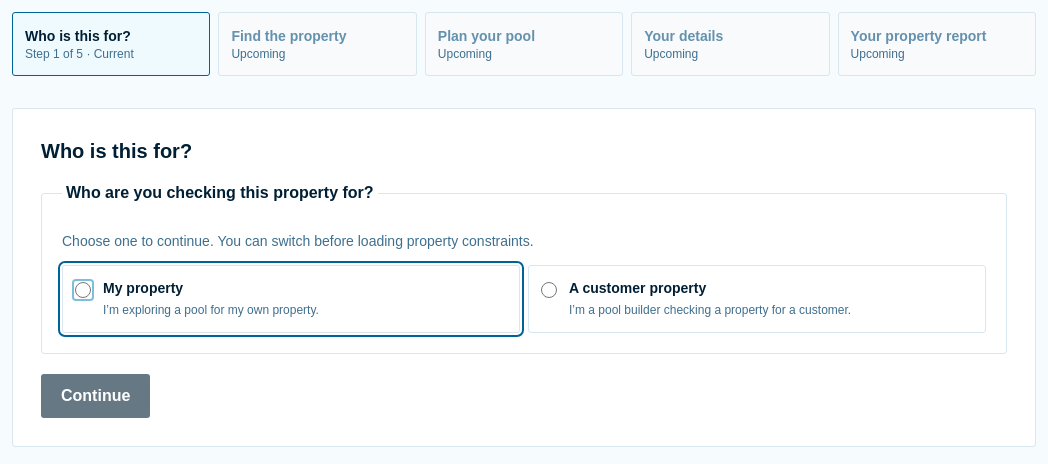
Test: Site answers in the property journey › requires an audience choice before address search and exposes one gated journey
Check: the number of navigation bars is 1, box [12, 12, 1036, 76]
Check: the radio button labelled "My property" is not checked, box [75, 282, 91, 298]
Step 1. Type keys " "
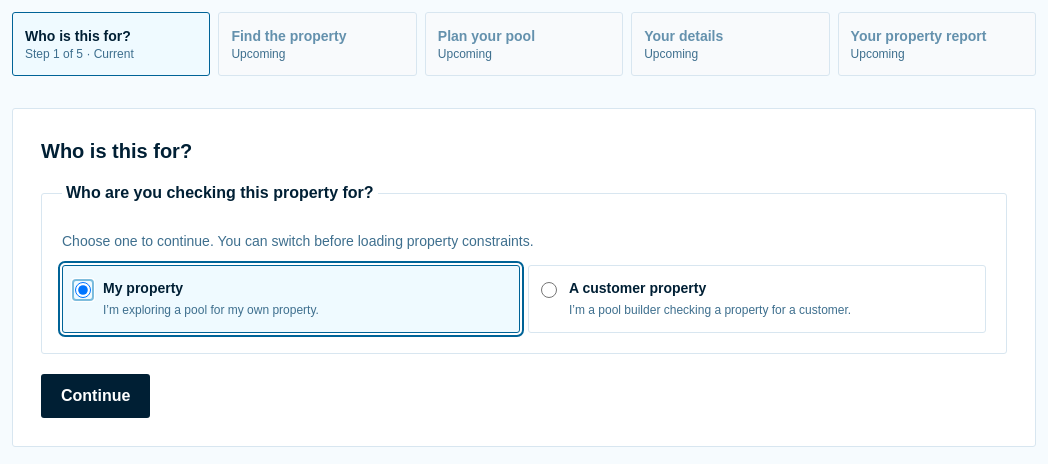
Step 2. Click the button "Continue" → x=96, y=396, box [41, 374, 150, 418]
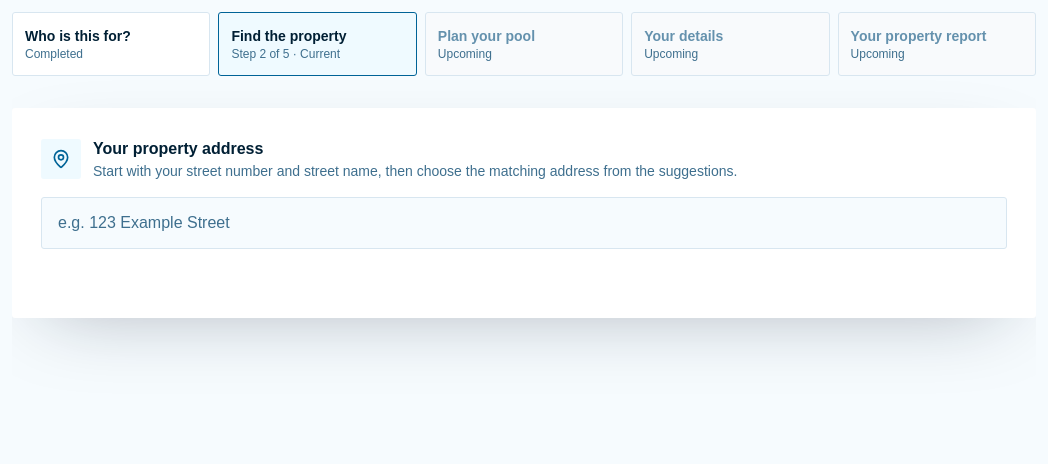
Check: the button "Who is this for? Completed" is enabled, box [12, 12, 210, 76]
Check: the field named "Auckland property address" is shown, box [41, 197, 1007, 249]
